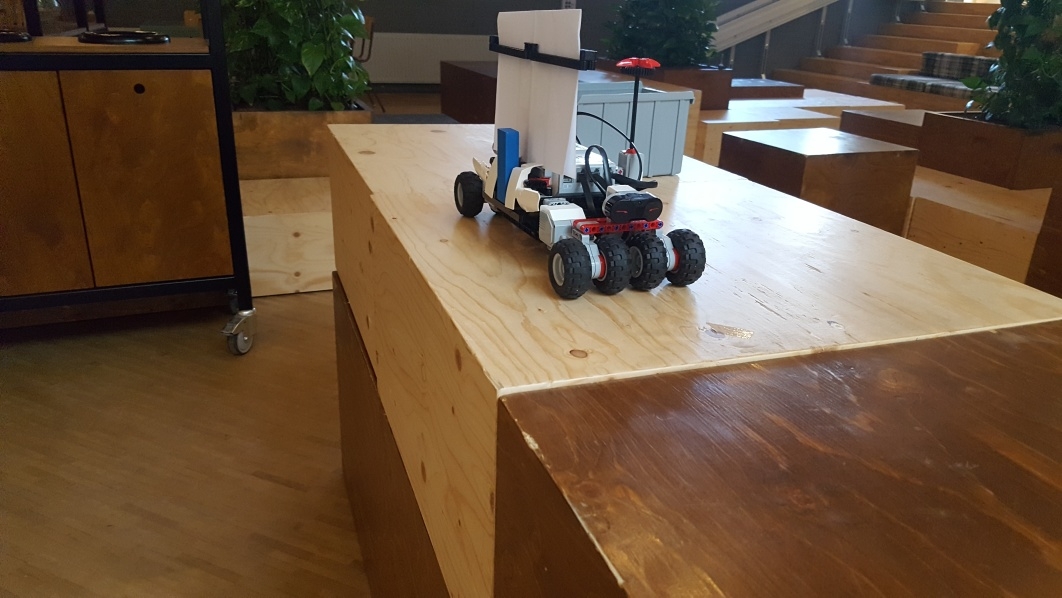car: (455, 7, 709, 299)
